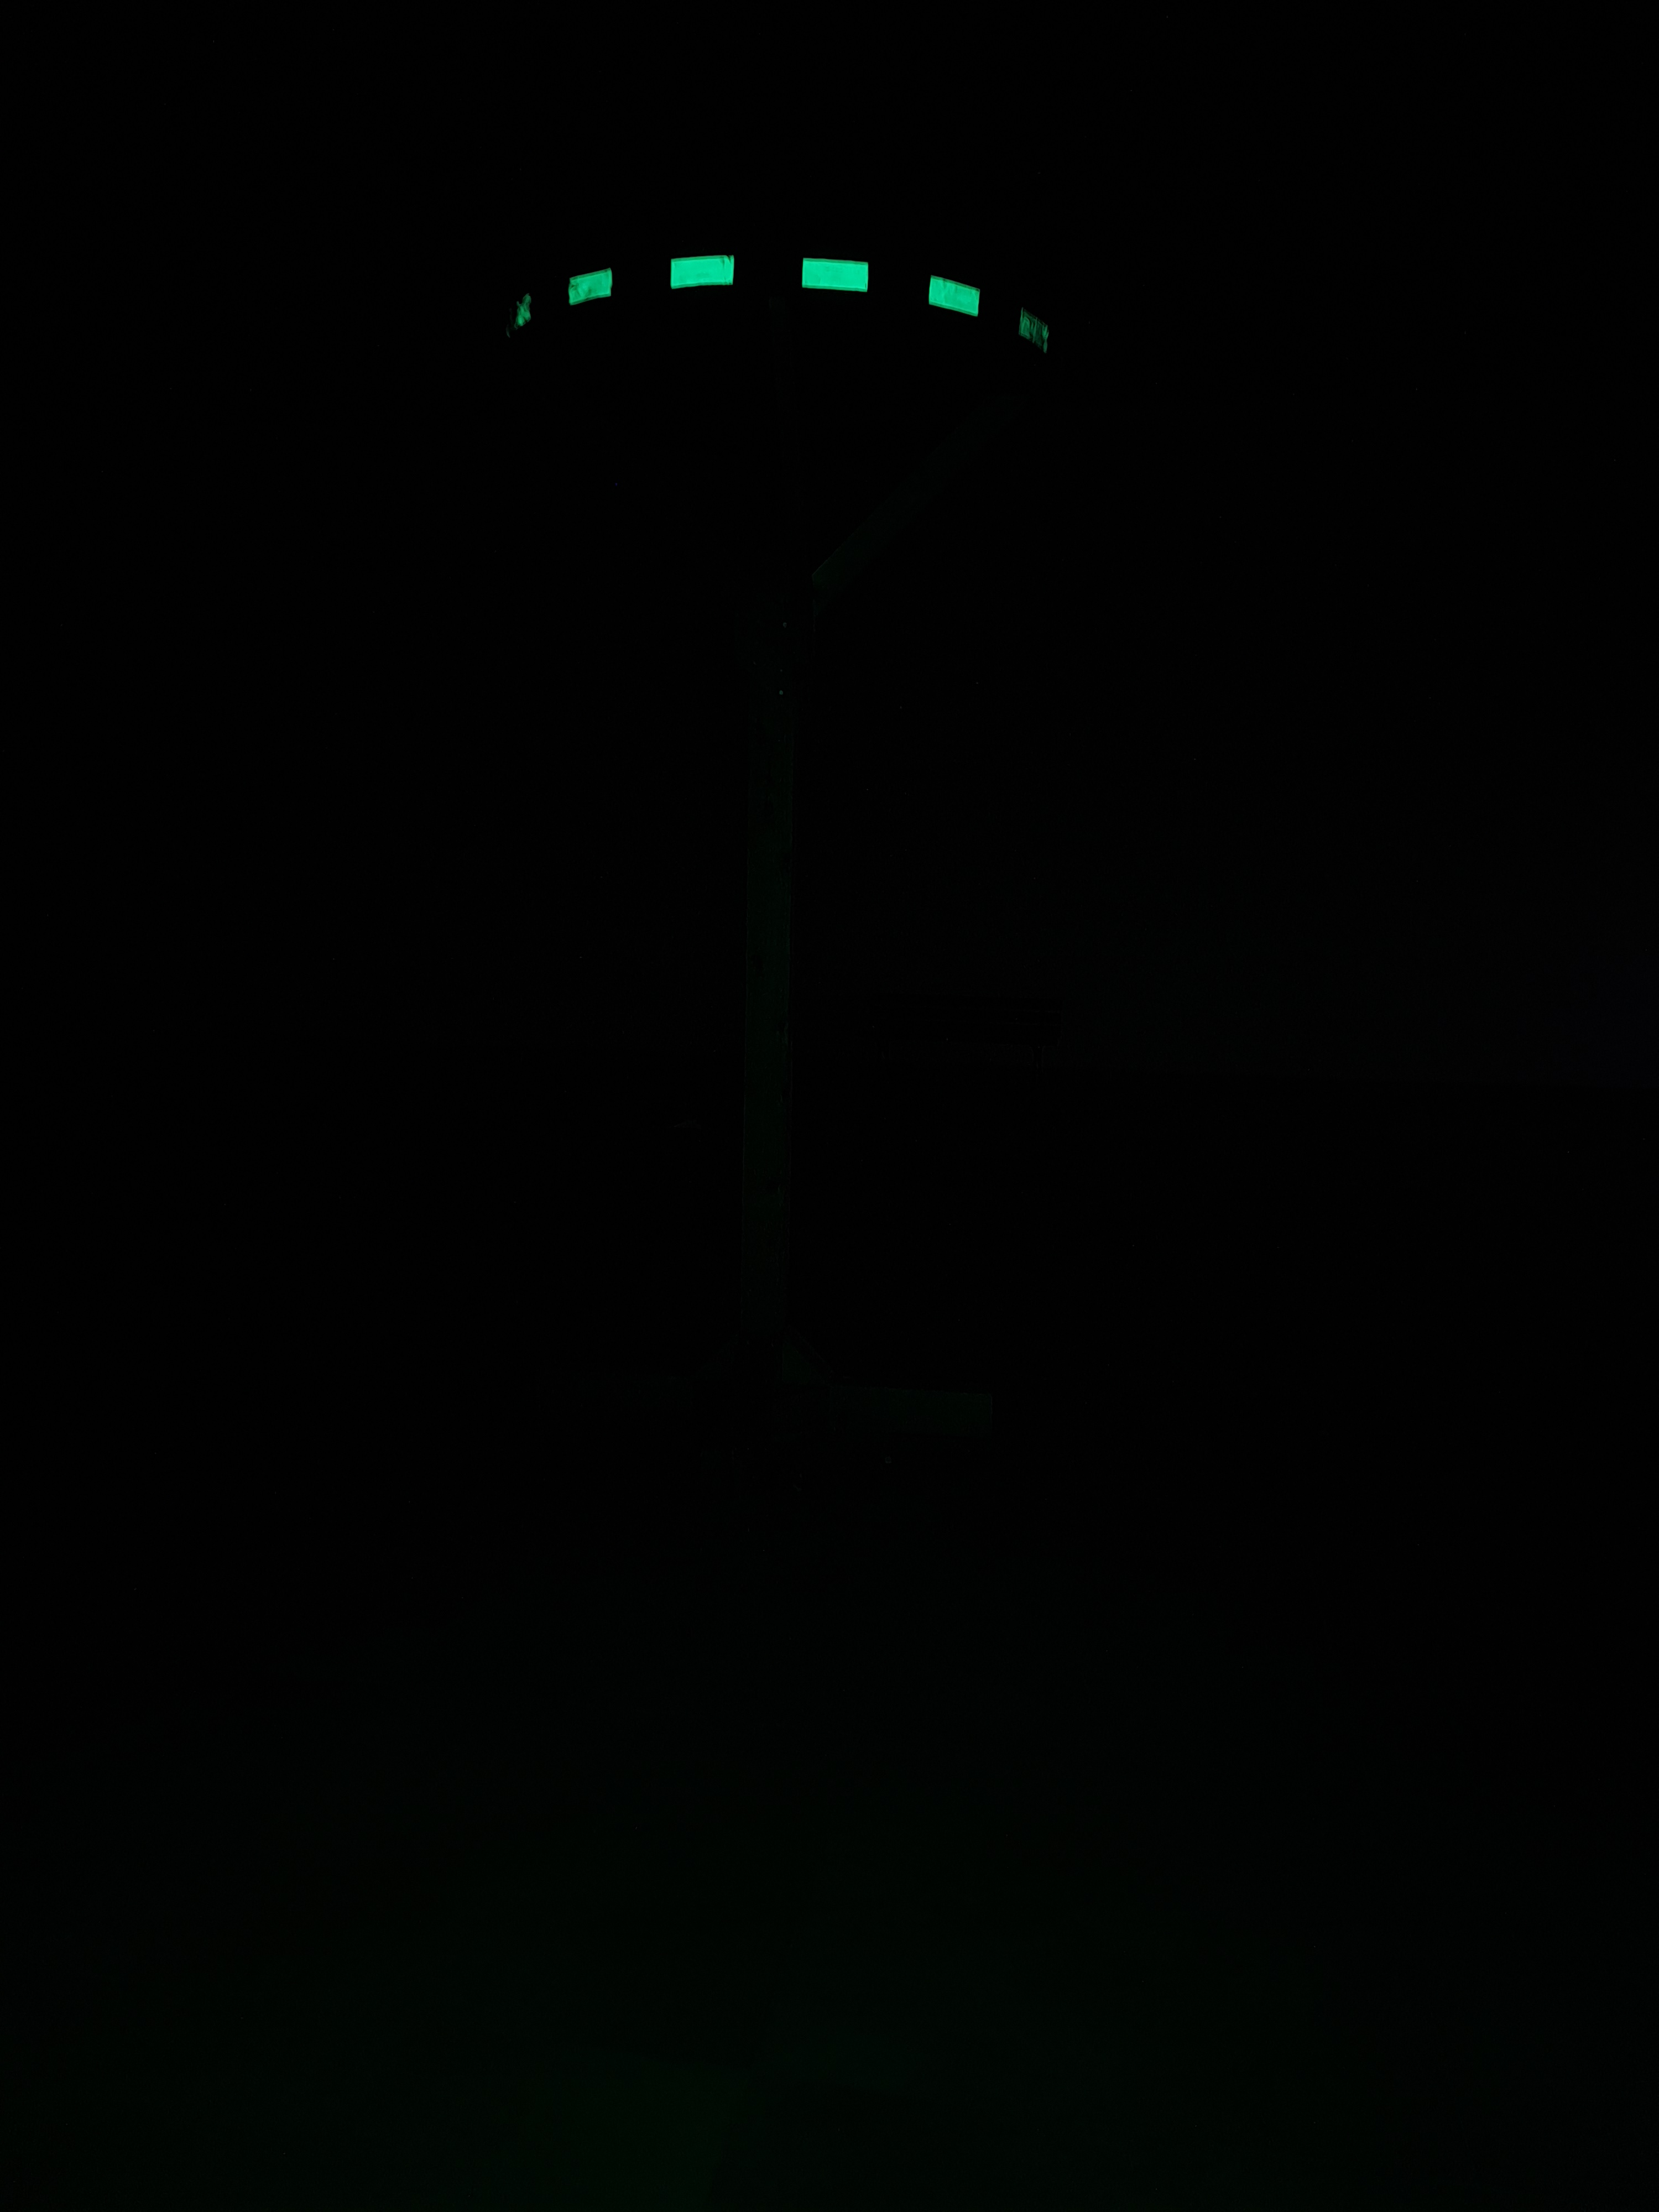hoop: (472, 235, 1096, 388)
